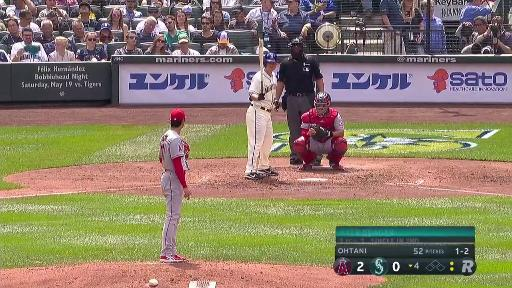pitcher: (157, 107, 200, 262)
